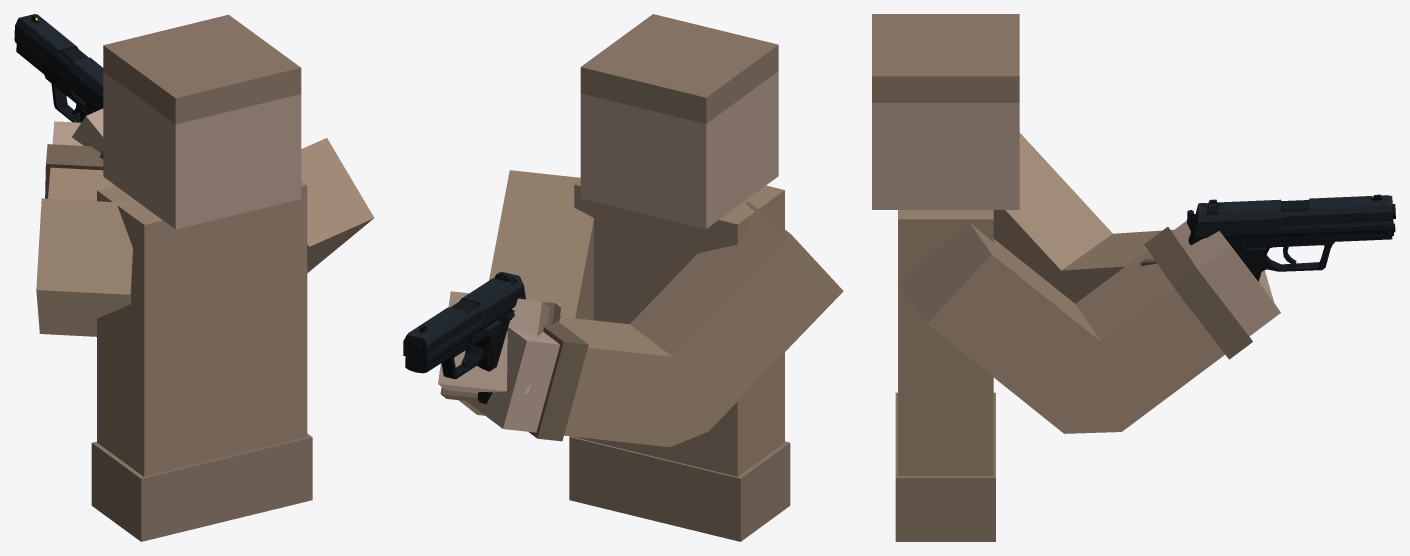
Rendered from Pistol.gltf.
3 views of the same model, side by side, from view 1: azimuth 30°, elevation 25°; view 2: azimuth 150°, elevation 25°; view 3: azimuth 270°, elevation 25° (orthographic).
Bounding box in the file's own units: 5.23 × 6.8 × 7.11.
Materials: 2 (1 with a texture image).
